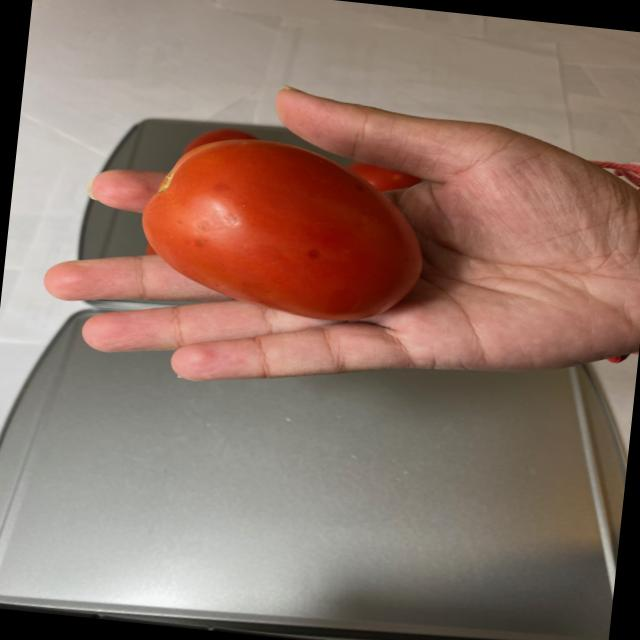tomato: (127, 124, 434, 326)
